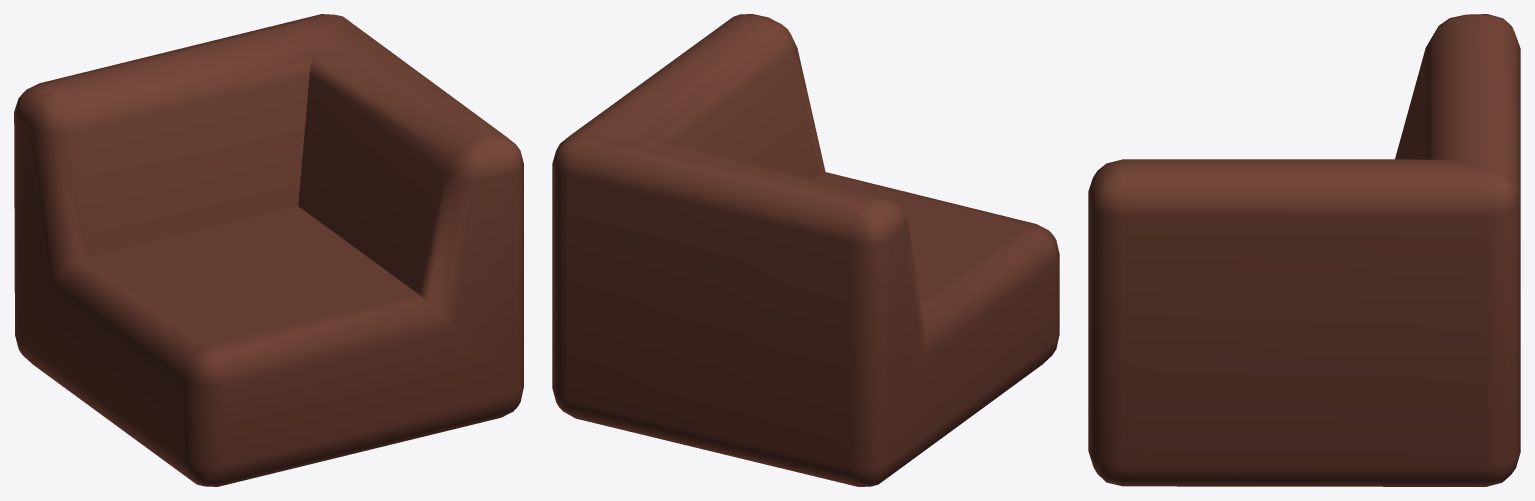
File: Couch_01.glb
3 views of the same model, side by side, from view 1: azimuth 30°, elevation 25°; view 2: azimuth 150°, elevation 25°; view 3: azimuth 270°, elevation 25° (orthographic). The views are drawn at different scales.
Visible parts, largest first — view 1: Couch_01; view 2: Couch_01; view 3: Couch_01.
Part boxes in pixels (box(x1,y1,x2,y2)): Couch_01: box(14, 14, 523, 486); Couch_01: box(552, 14, 1059, 486); Couch_01: box(1088, 14, 1520, 486).
Size of the model in its own units: 0.8747 by 0.6998 by 0.8747.
Materials: 1 (1 with a texture image).
